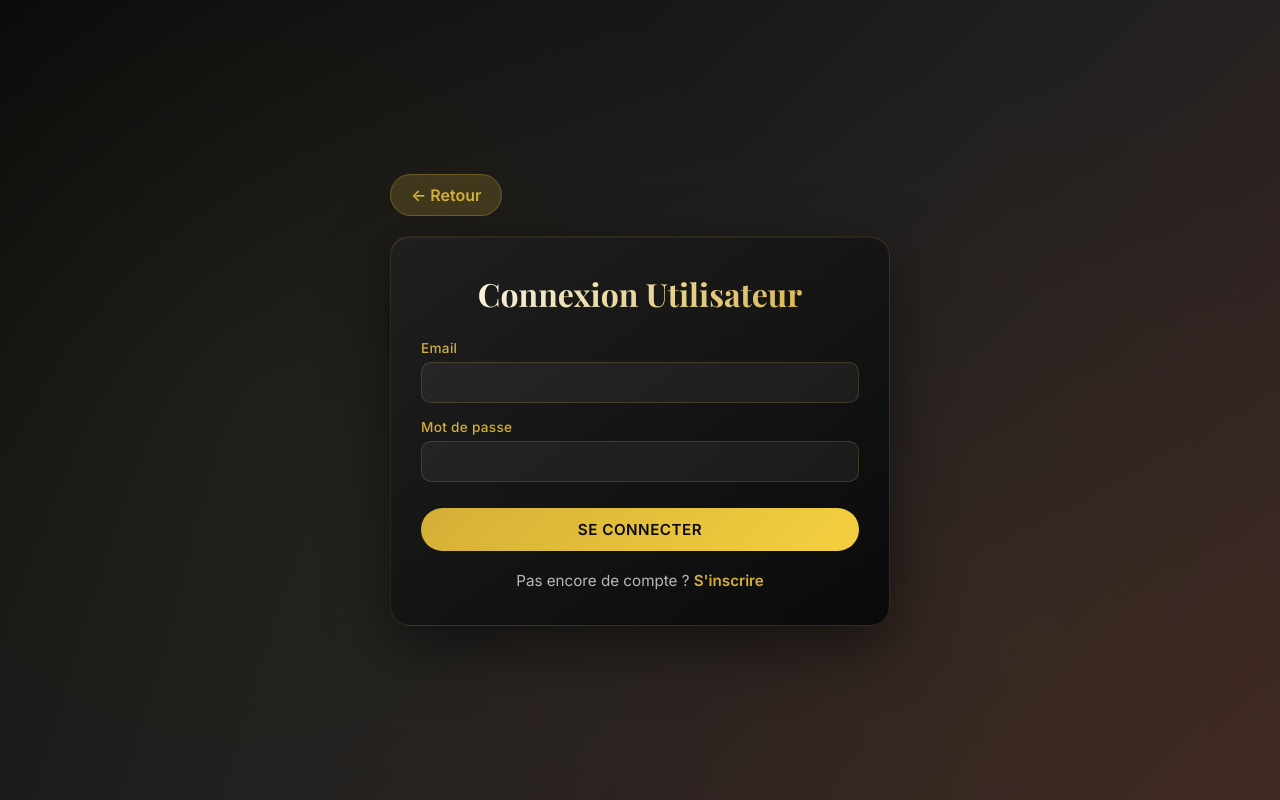
it: UserAuth Component Tests › should render register form when mode is register
The image size is (1280, 800).
# Click on register link
Click the text "S'inscrire" at (729, 580), box [694,571,764,590]
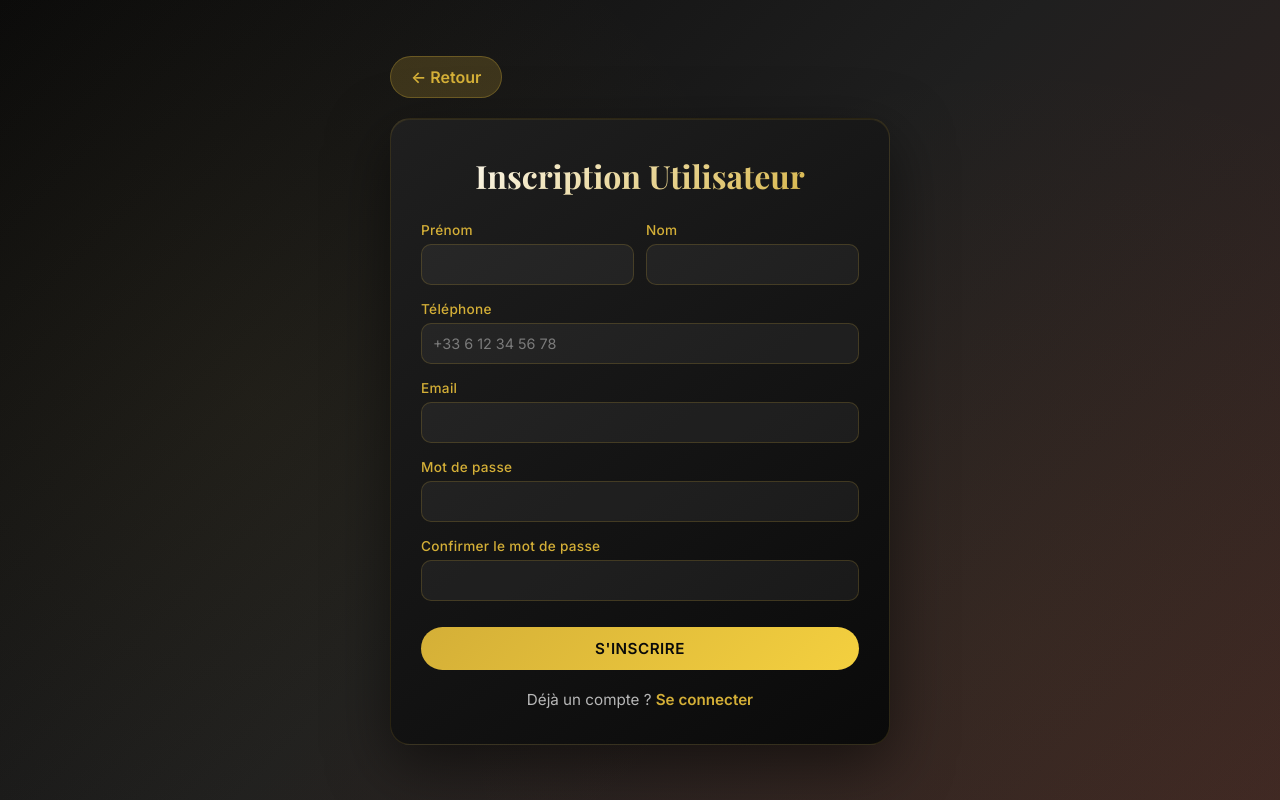
Result: the heading "Inscription Utilisateur" is shown at [421,154,859,196]
Result: the text "Prénom" is shown at [421,222,473,238]
Result: the text "Nom" is shown at [646,222,678,238]
